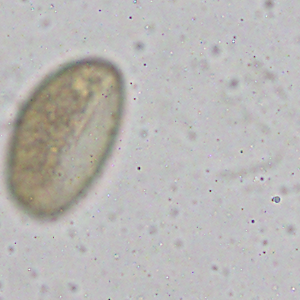Fasciola_hepatica_egg: (6, 55, 124, 223)
